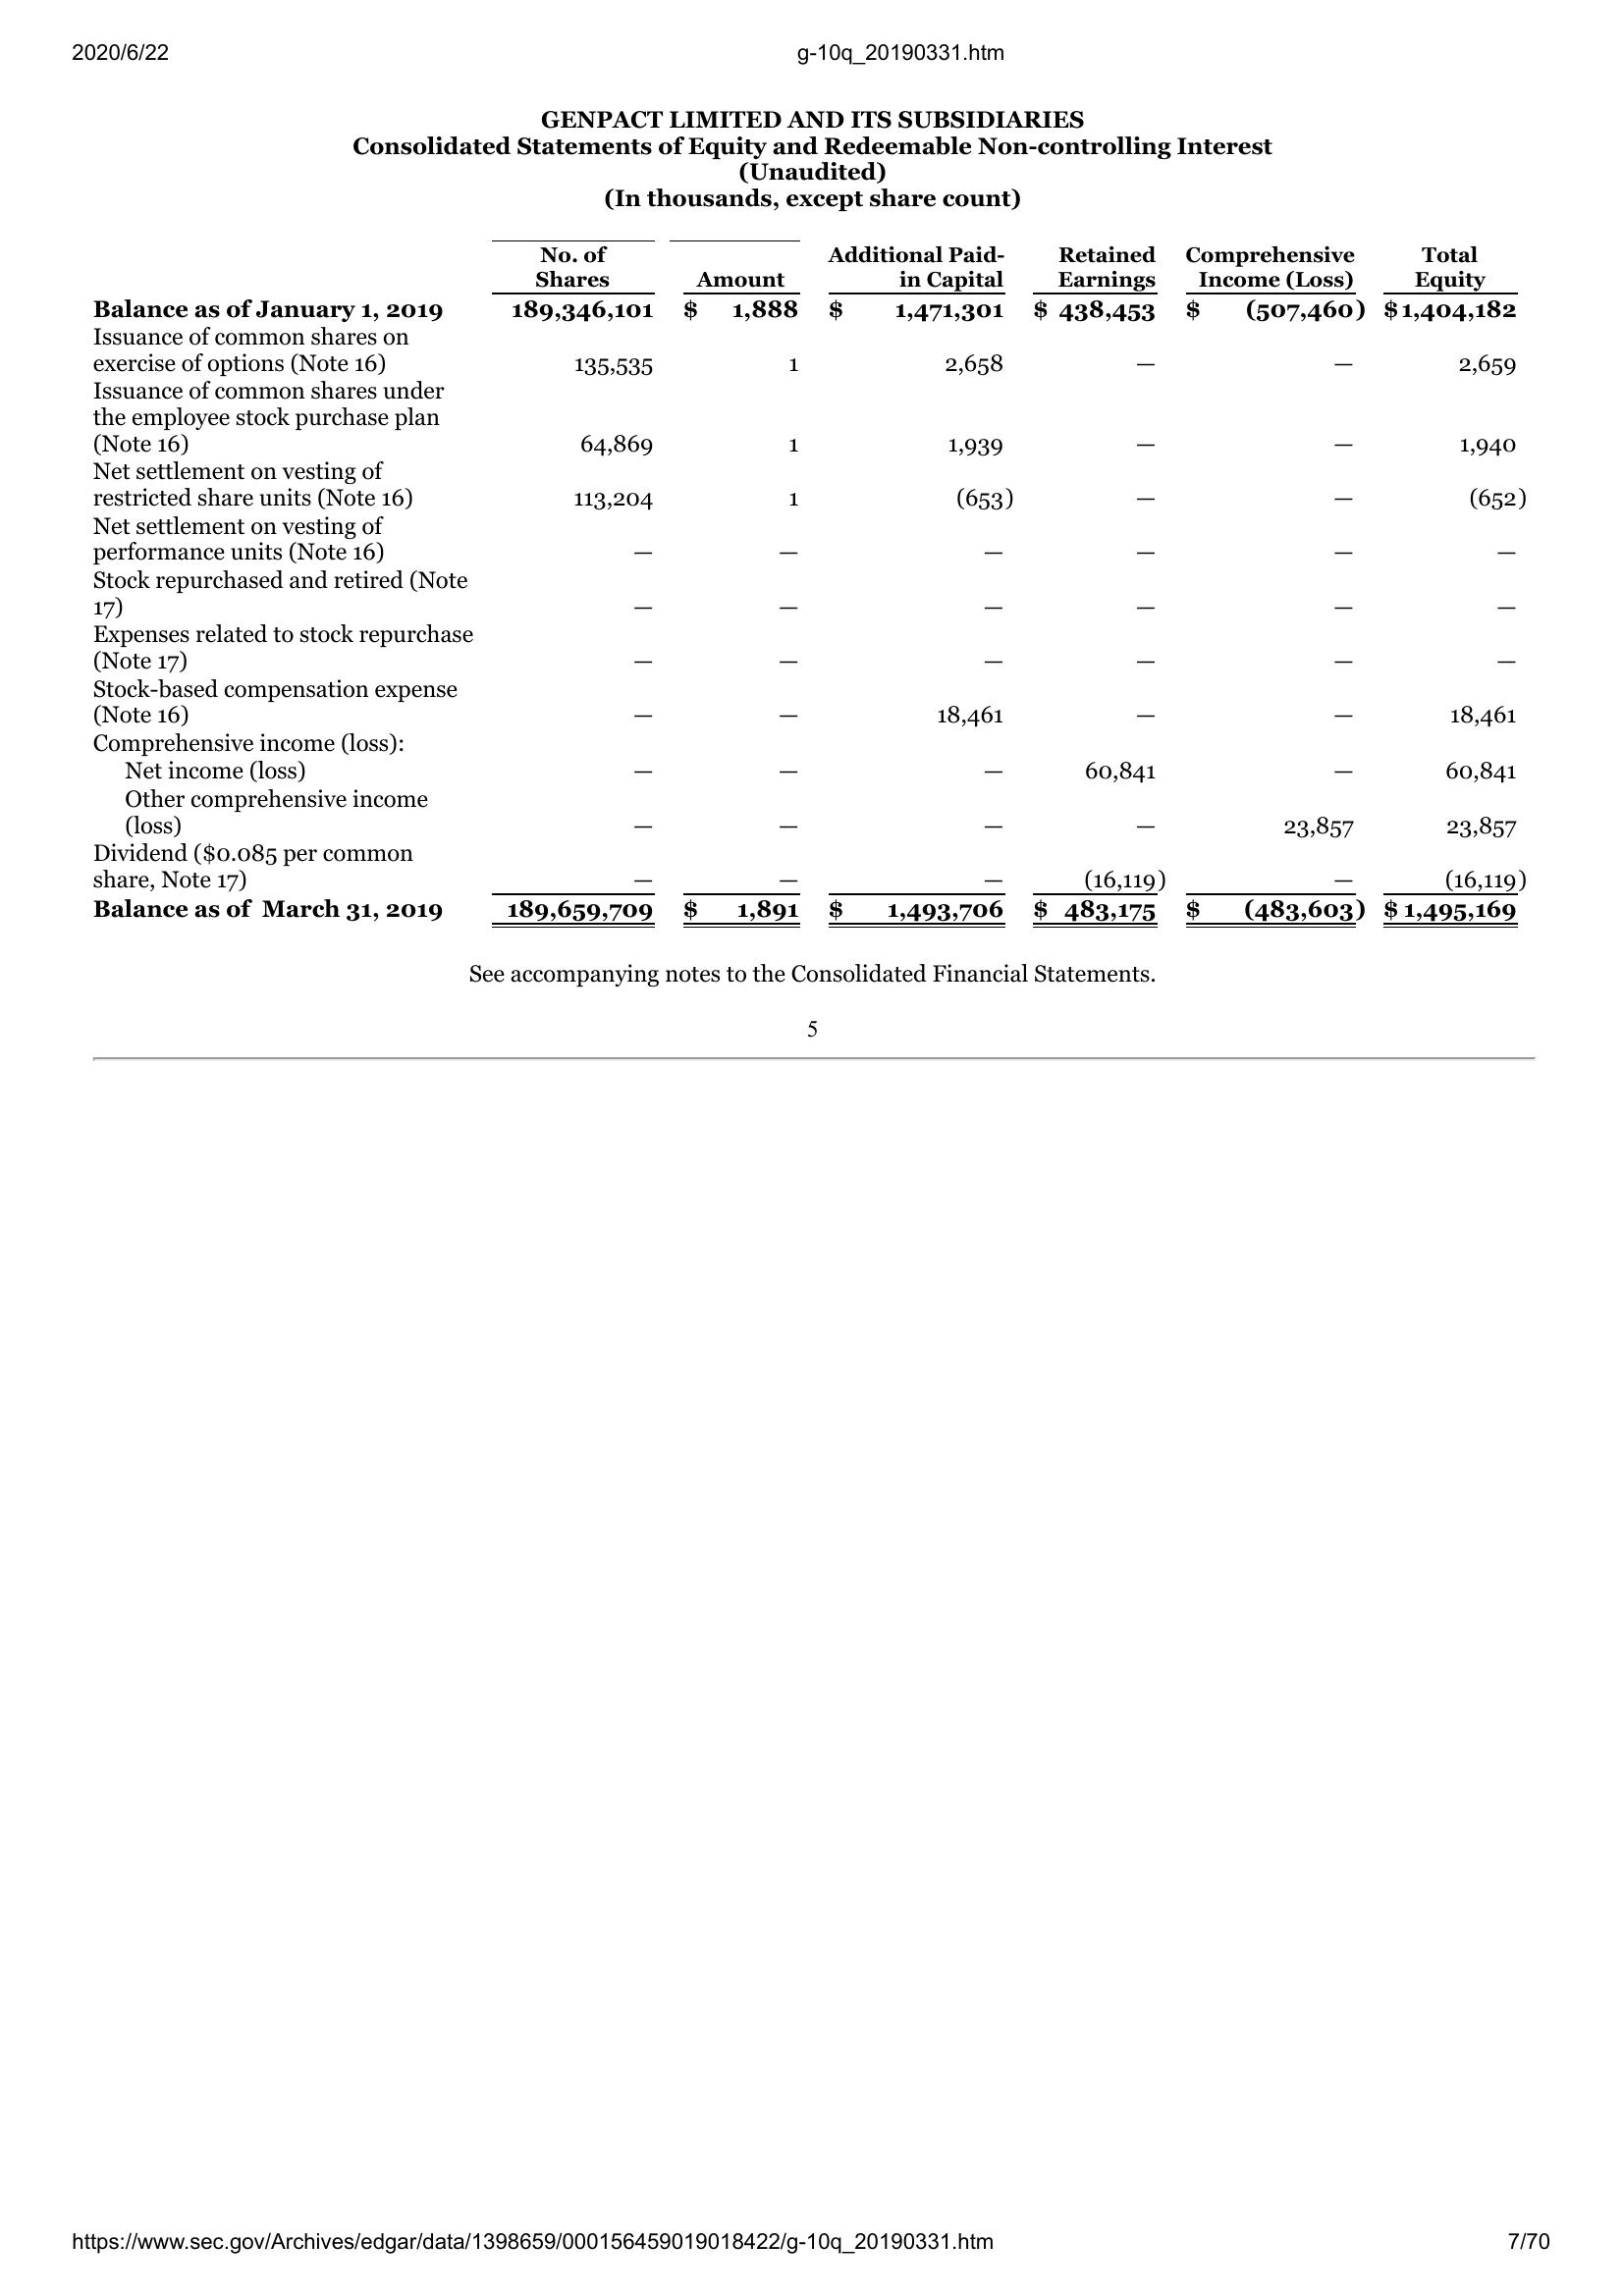table: (84, 233, 1535, 934)
